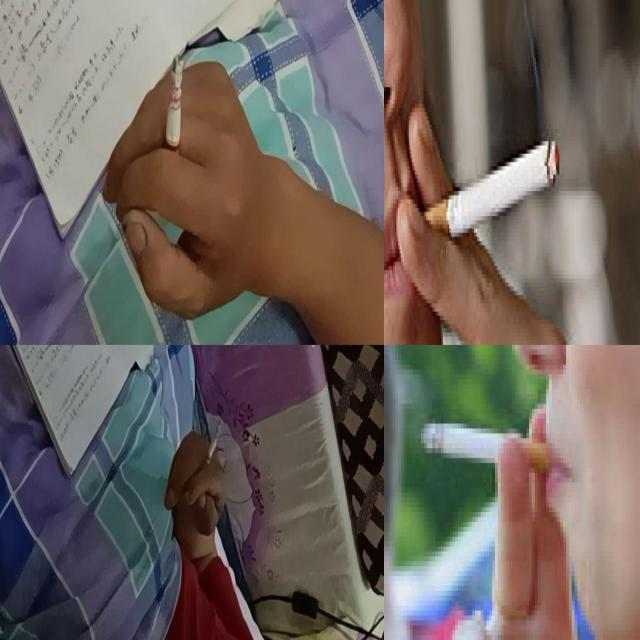cigarette: (404, 135, 560, 259), (421, 421, 557, 476), (162, 56, 185, 172), (200, 420, 222, 474)
